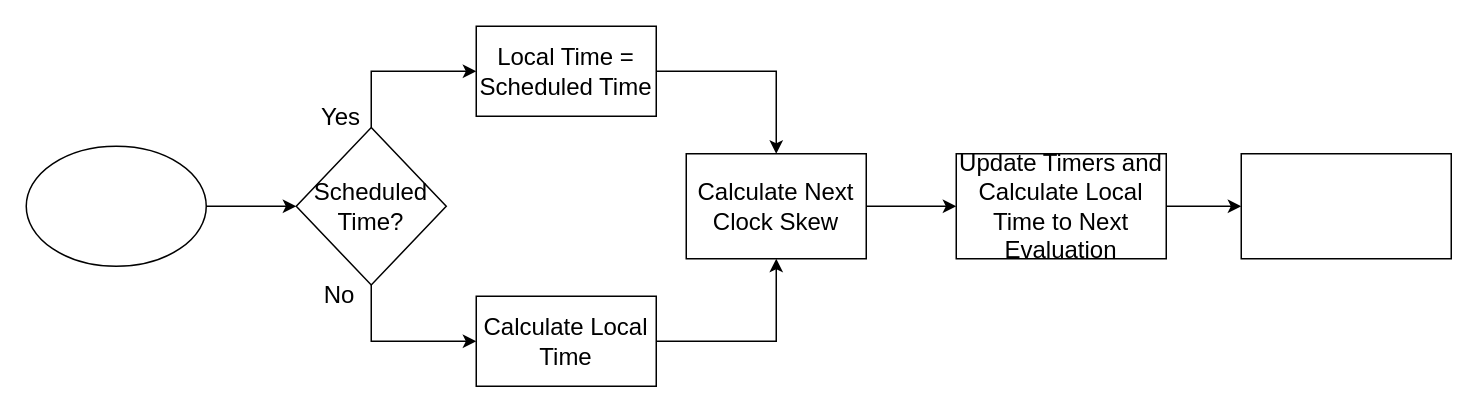
This 1478x413 diagram has some shape labels left out. Here are the shapes that lost their labels. From the top down, the centre of each, then its label:
At (x=115, y=205): "Start".
At (x=1345, y=205): "Calculate the Global Time for Next Evaluation".
